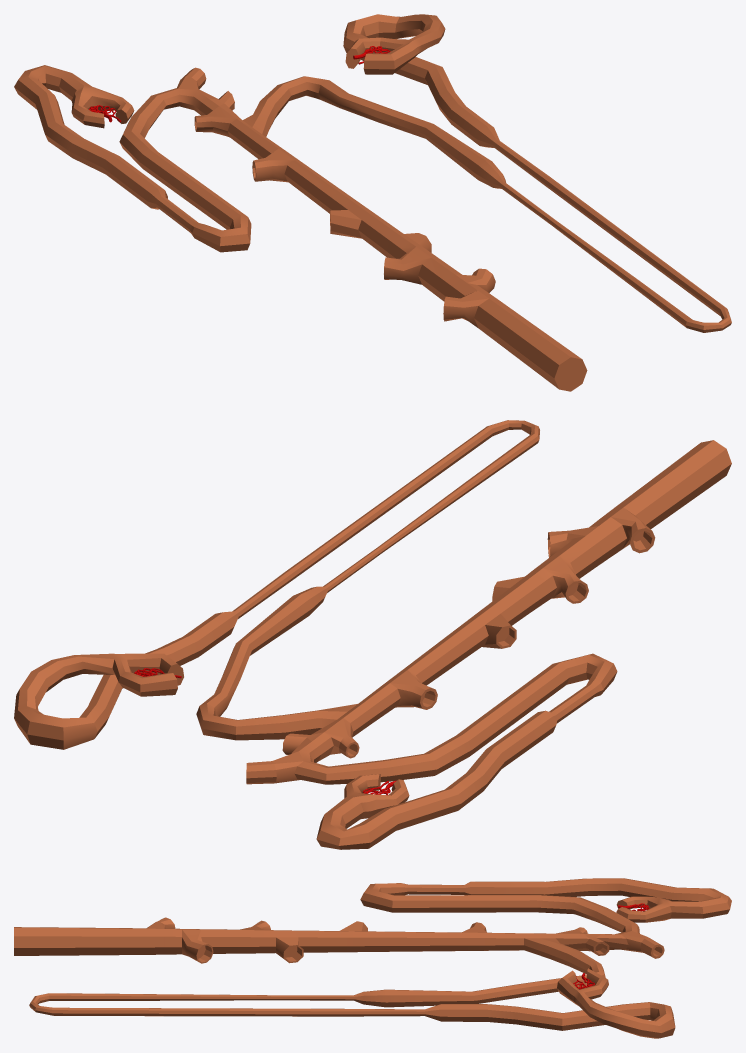
3 renders of one model, top to bottom at view 1: azimuth 30°, elevation 25°; view 2: azimuth 150°, elevation 25°; view 3: azimuth 270°, elevation 25°, orthographic. The views are drawn at different scales.
Parts seen in each view (by area): view 1: pasted__pCylinder3; view 2: pasted__pCylinder3; view 3: pasted__pCylinder3.
Boxes of the visible parts, x1,y1,x2,y2 form: pasted__pCylinder3: (14, 14, 731, 391); pasted__pCylinder3: (14, 420, 731, 849); pasted__pCylinder3: (14, 878, 731, 1038).
Size of the model in its own units: 48.15 by 5.86 by 93.9.
